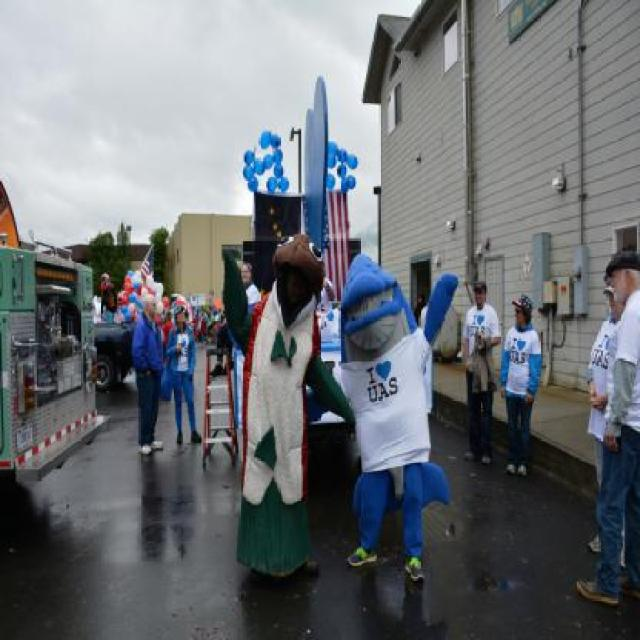Person: (238, 218, 320, 592), (576, 246, 639, 608), (587, 283, 628, 568), (497, 294, 541, 480), (460, 279, 503, 463), (210, 263, 262, 379), (132, 294, 166, 460), (165, 305, 202, 447), (159, 300, 226, 355), (316, 262, 338, 322), (98, 270, 118, 324), (412, 292, 426, 326)
